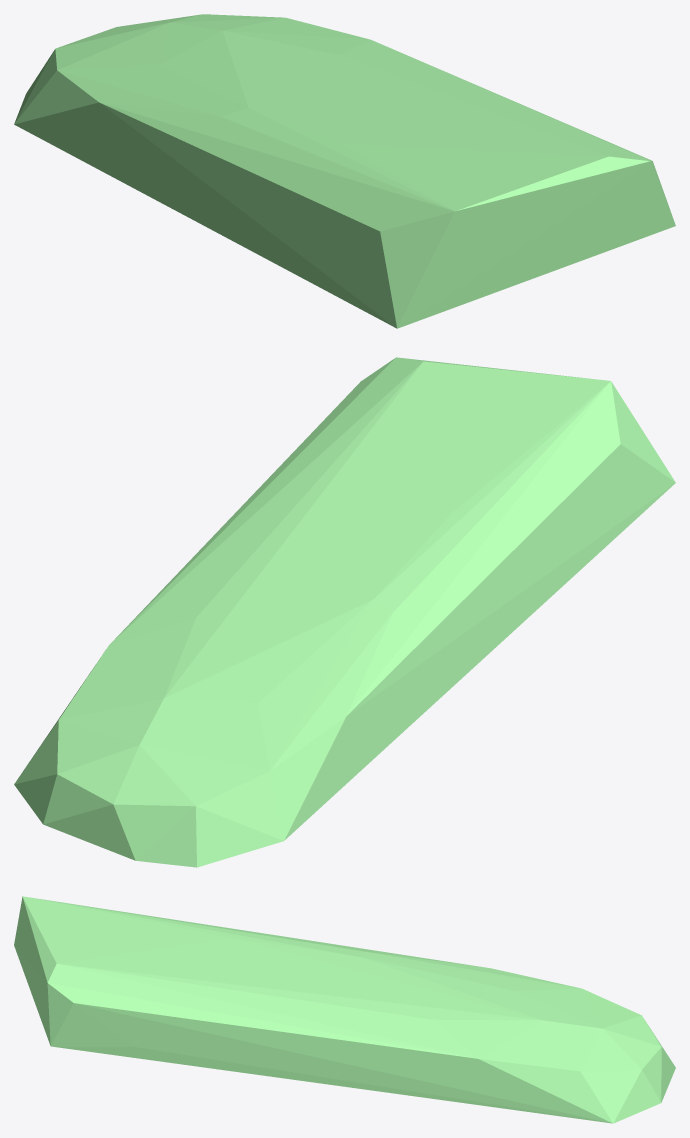
File: franka_link6resp_coll_7.dae
3 renders of one model, top to bottom at view 1: azimuth 30°, elevation 25°; view 2: azimuth 150°, elevation 25°; view 3: azimuth 270°, elevation 25°, orthographic. The views are drawn at different scales.
Parts seen in each view (by area): view 1: node; view 2: node; view 3: node.
Part boxes in pixels (x1,y1,x2,y2): node: (14,14,675,328); node: (14,357,675,867); node: (14,896,675,1123).
Bounding box in the file's own units: 0.0659 × 0.042 × 0.1694.
